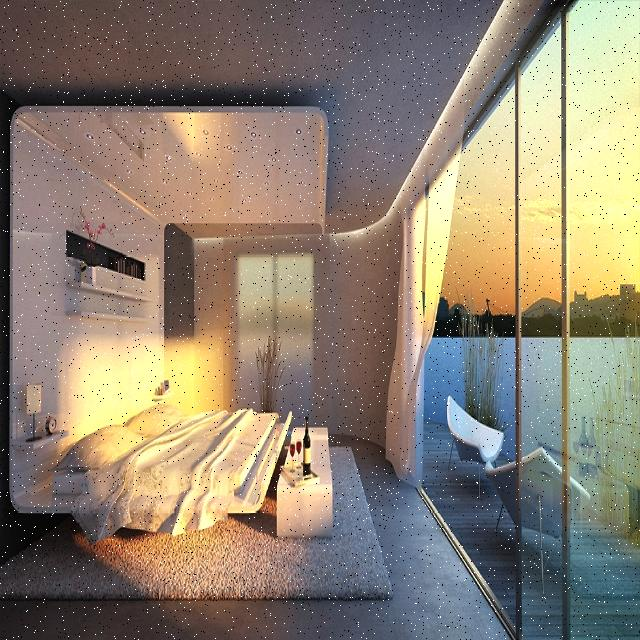bed: (61, 375, 277, 523)
